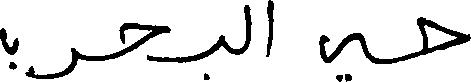X: (417, 12, 470, 61), (321, 28, 362, 81), (121, 18, 166, 66), (32, 43, 75, 81), (0, 23, 17, 74), (267, 0, 272, 61), (245, 0, 248, 55), (219, 30, 223, 52)
